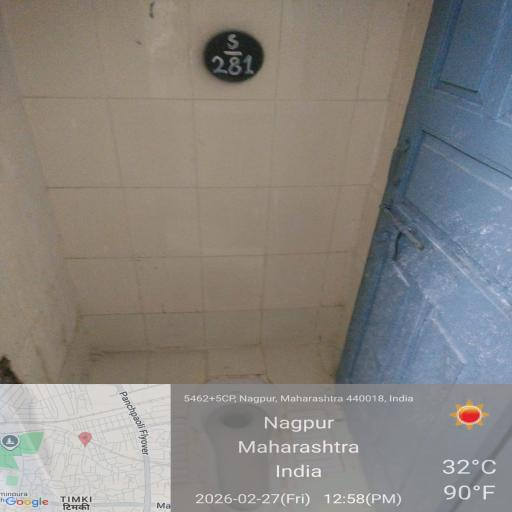clean_floor: (46, 13, 414, 313)
clean_indian: (120, 365, 342, 512)
partial_dirty_floor: (75, 354, 185, 512)
